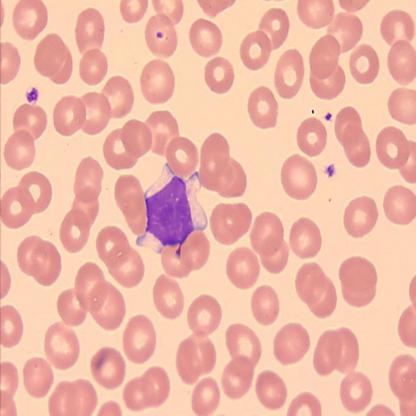Atypical lymphocyte: (137, 163, 211, 258)
